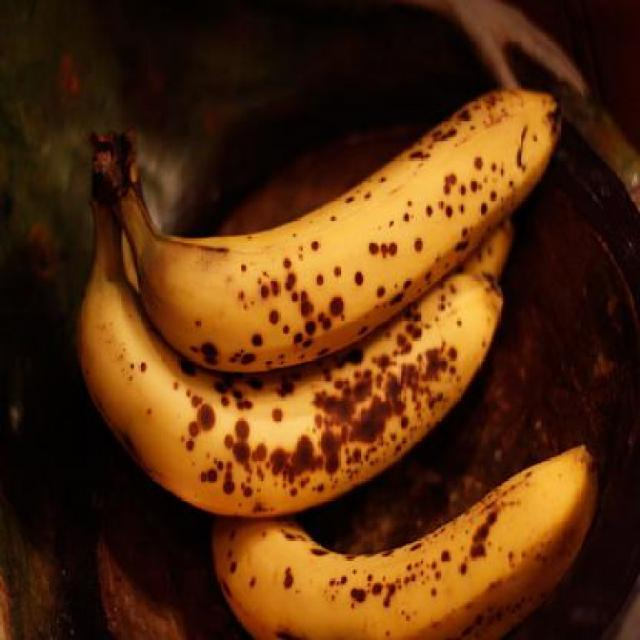Banana: (76, 120, 504, 522), (92, 90, 562, 372), (212, 473, 596, 639), (454, 218, 511, 278)
